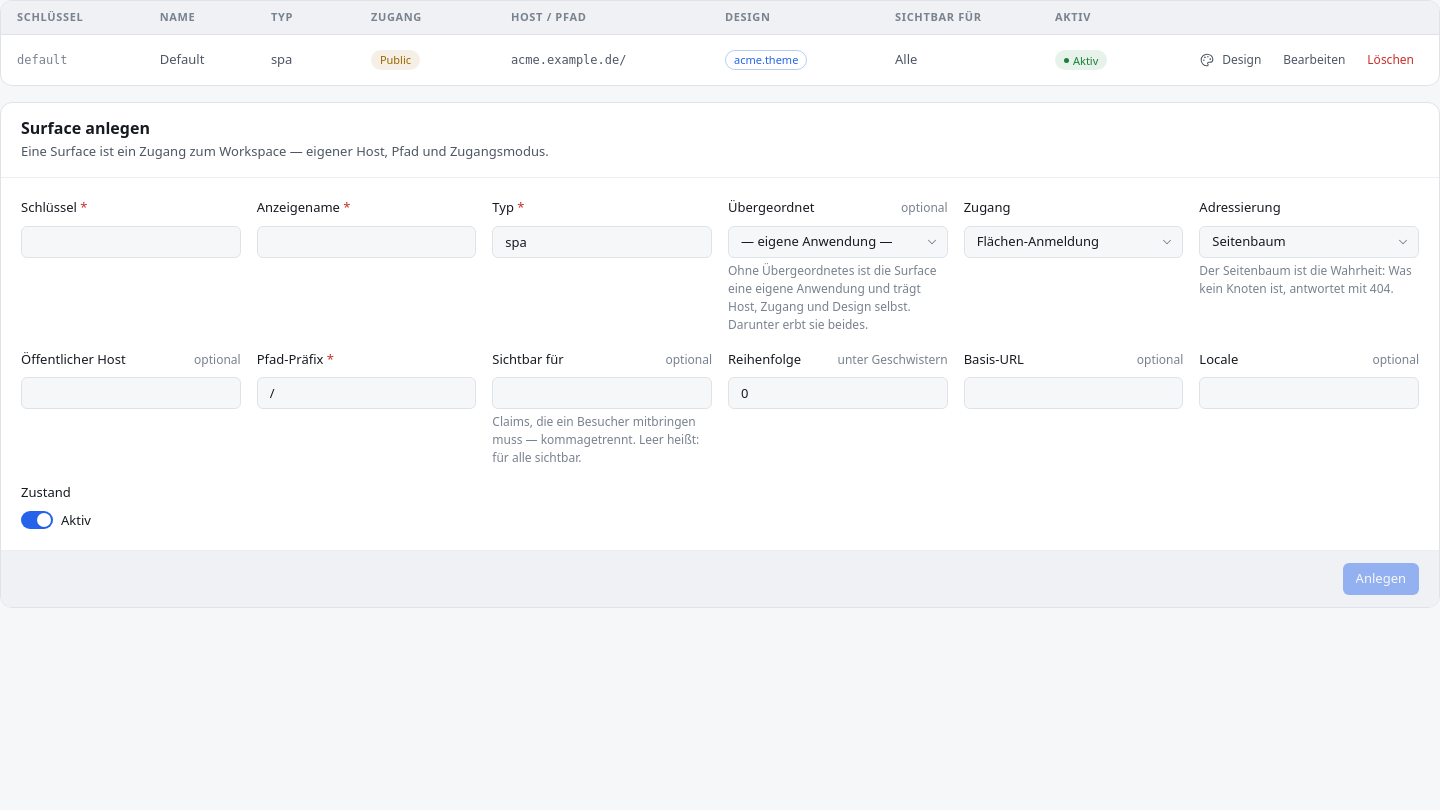
Test: WorkspaceSurfaces › aborts save when a before-save hook cancels
In the field named "surfaceKey": [131, 242] box [34, 227, 228, 257], type "portal"
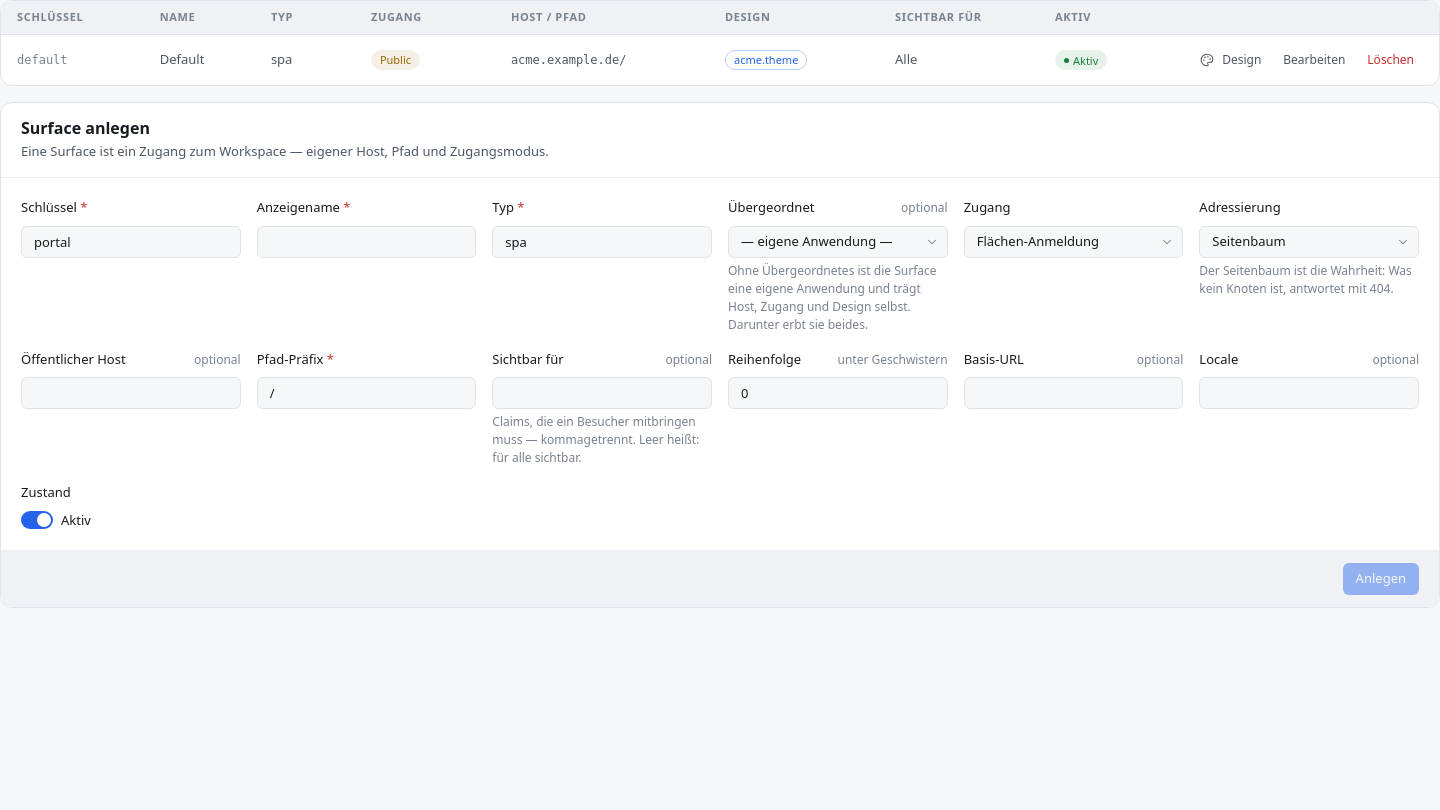
In the field named "surfaceDisplayName": [367, 242] box [270, 227, 463, 257], type "Portal"
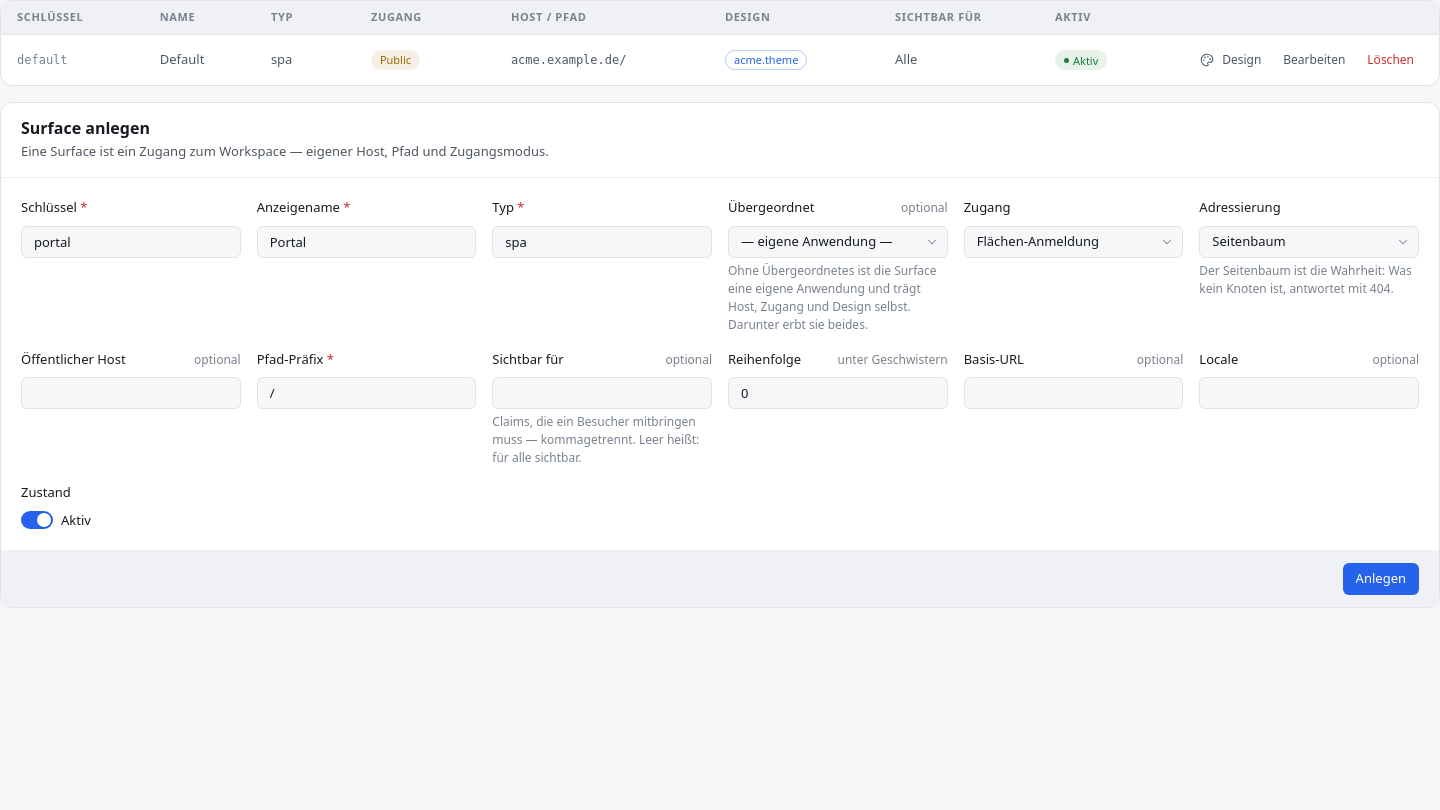
Submit the form with class "surfaces__form", box [21, 198, 1419, 530]
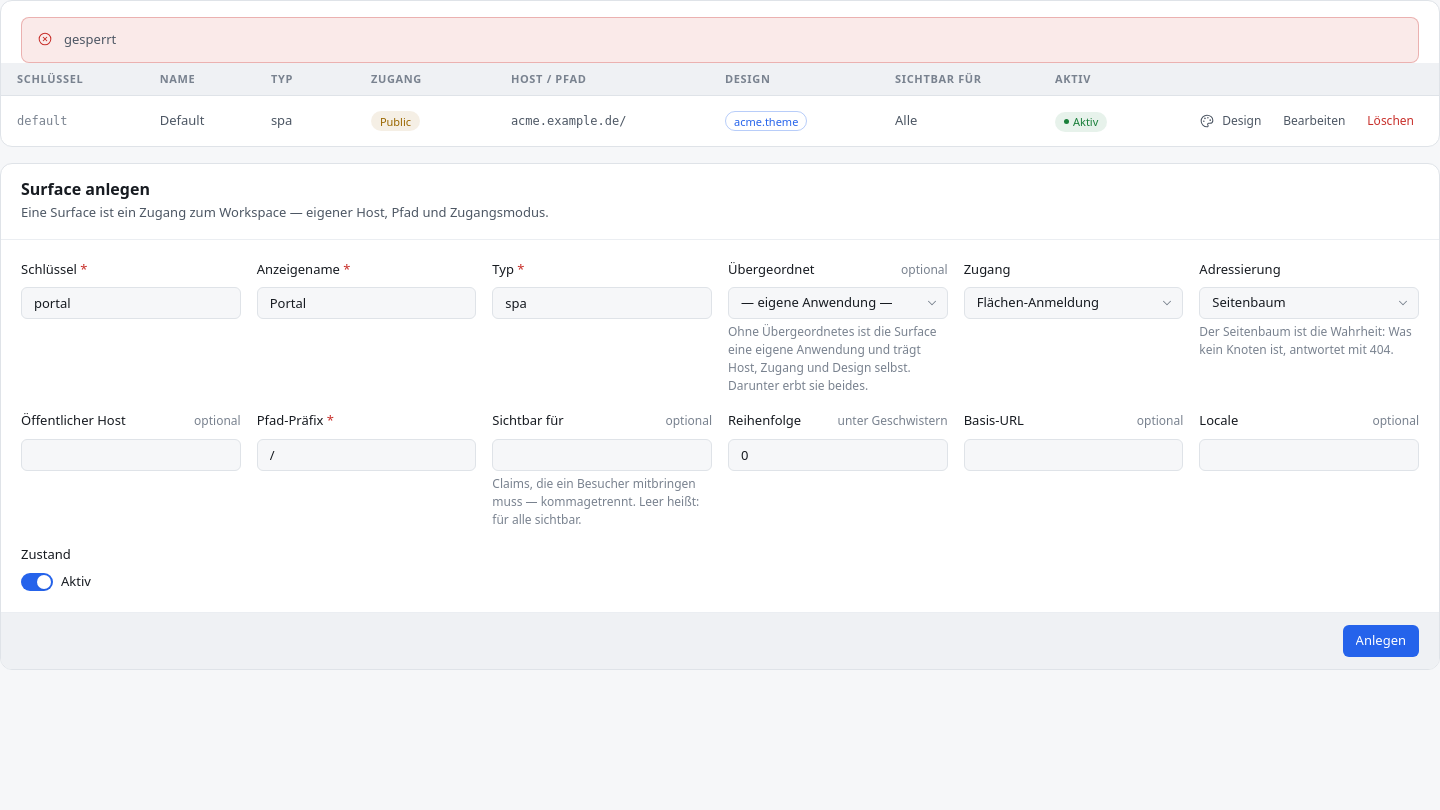
Now the text "gesperrt" is shown, box [64, 30, 116, 48]
